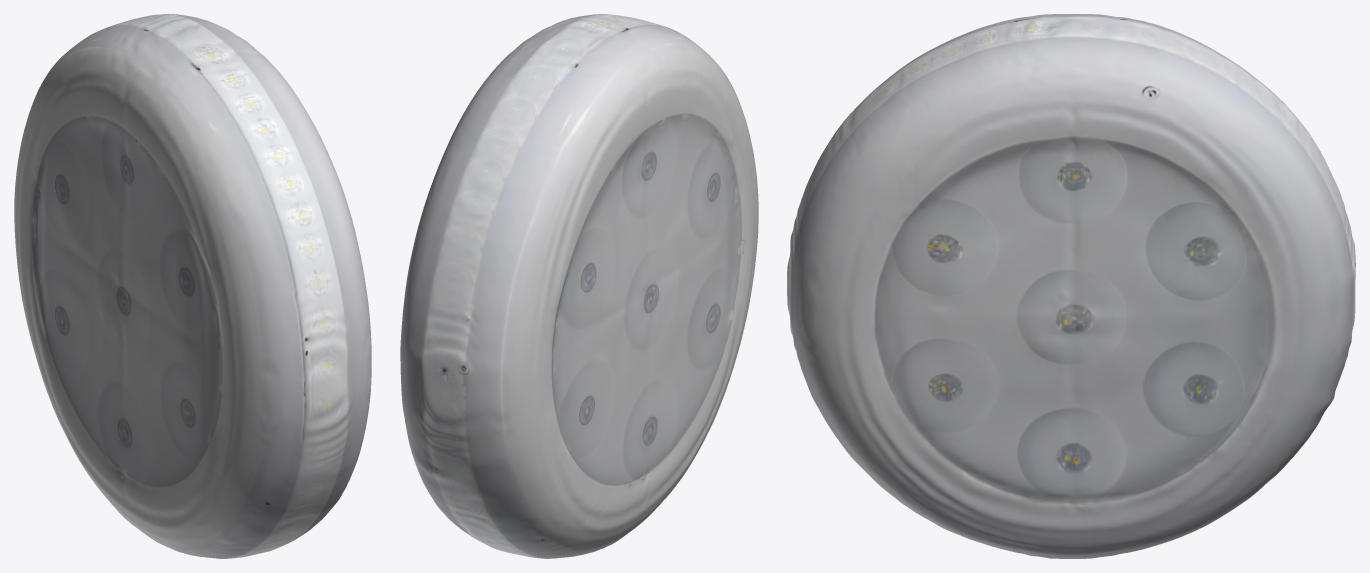
3 views of the same model, side by side, from view 1: azimuth 30°, elevation 25°; view 2: azimuth 150°, elevation 25°; view 3: azimuth 270°, elevation 25° (orthographic). The views are drawn at different scales.
Visible parts, largest first — view 1: tripo_node_4b433a9f-efbb-4515-a73b-a7828d54f6b5; view 2: tripo_node_4b433a9f-efbb-4515-a73b-a7828d54f6b5; view 3: tripo_node_4b433a9f-efbb-4515-a73b-a7828d54f6b5.
Part boxes in pixels (x1=…): tripo_node_4b433a9f-efbb-4515-a73b-a7828d54f6b5: x1=14, y1=14, x2=371, y2=558; tripo_node_4b433a9f-efbb-4515-a73b-a7828d54f6b5: x1=400, y1=14, x2=758, y2=558; tripo_node_4b433a9f-efbb-4515-a73b-a7828d54f6b5: x1=787, y1=14, x2=1355, y2=558.
Size of the model in its own units: 0.2269 by 0.7374 by 0.73.
1 material, 1 textured.
